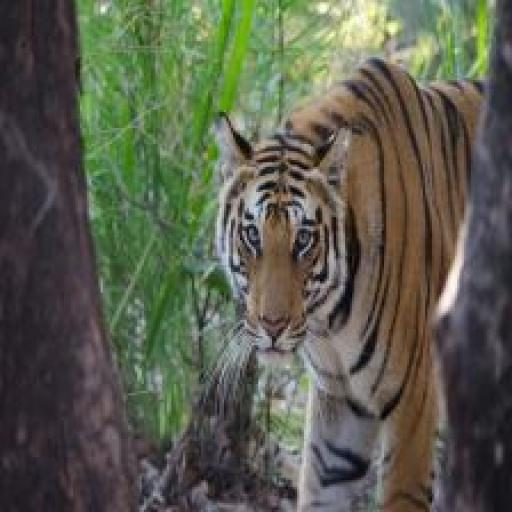Tiger: (123, 43, 503, 512)
